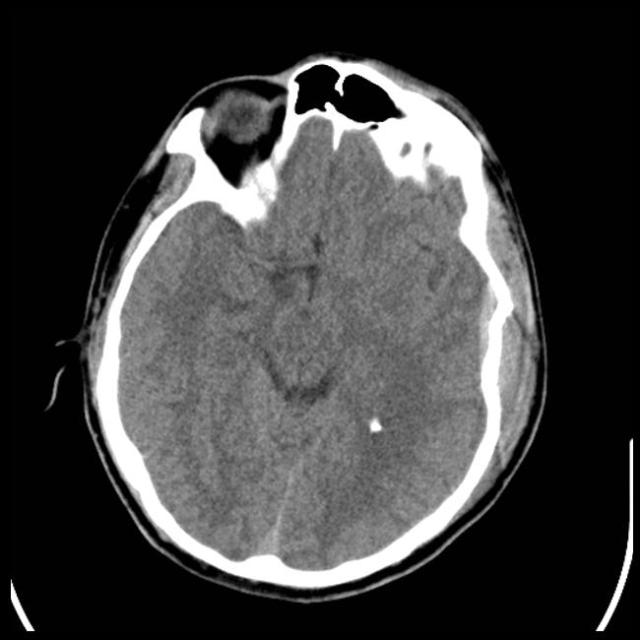lesion: (67, 52, 546, 594)
